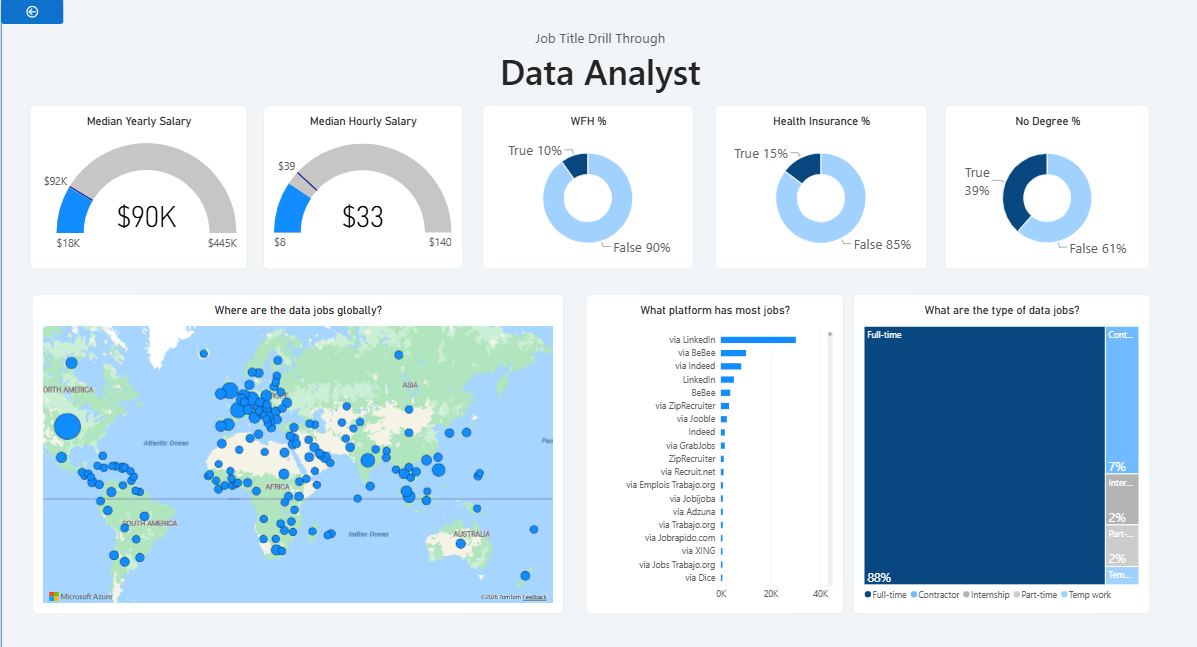

This screenshot's page, from the dashboard's own definition file:
{"tool":"powerbi","page":{"name":"Dashboard Drill Through","canvas":[1920,1080],"ordinal":1},"visuals":[{"type":"shape","box":[0,0,1920,1080],"z":500},{"type":"cardVisual","fields":{"Data":["Min(job_postings_flat.job_title_short)1"]},"box":[674,42,570,116],"z":1000},{"type":"actionButton","box":[0,0,100,40],"z":2000},{"type":"gauge","title":"Median Hourly Salary","fields":{"MaxValue":["Max(job_postings_flat.salary_hour_avg)"],"MinValue":["Min(job_postings_flat.salary_hour_avg)"],"TargetValue":["Avg(job_postings_flat.salary_hour_avg)"],"Y":["Median(job_postings_flat.salary_hour_avg)"]},"box":[420,170.4,318,262],"z":3000},{"type":"gauge","title":"Median Yearly Salary","fields":{"MaxValue":["Max(job_postings_flat.salary_year_avg)2"],"MinValue":["Min(job_postings_flat.salary_year_avg)1"],"TargetValue":["Avg(job_postings_flat.salary_year_avg)3"],"Y":["Median(job_postings_flat.salary_year_avg)"]},"box":[46,170.4,348,262],"z":4000},{"type":"donutChart","title":"WFH %","fields":{"Category":["job_postings_flat.job_work_from_home"],"Y":["CountNonNull(job_postings_flat.job_work_from_home)"]},"box":[770,170.4,338,262],"z":5000},{"type":"donutChart","title":"Health Insurance %","fields":{"Category":["job_postings_flat.job_health_insurance"],"Y":["CountNonNull(job_postings_flat.job_work_from_home)"]},"box":[1142,170.4,340,262],"z":6000},{"type":"donutChart","title":"No Degree %","fields":{"Category":["job_postings_flat.job_no_degree_mention"],"Y":["CountNonNull(job_postings_flat.job_work_from_home)"]},"box":[1510,170,328,262],"z":7000},{"type":"azureMap","title":"Where are the data jobs globally?","fields":{"Category":["job_postings_flat.job_country"],"Size":["CountNonNull(job_postings_flat.job_title_short)"]},"box":[50,472,850,512],"z":8000},{"type":"treemap","title":"What are the type of data jobs?","fields":{"Group":["job_postings_flat.job_schedule_type"],"Values":["CountNonNull(job_postings_flat.job_schedule_type)"]},"box":[1364,472,474,512],"z":9000},{"type":"barChart","title":"What platform has most jobs?","fields":{"Category":["job_postings_flat.job_via"],"Y":["CountNonNull(job_postings_flat.job_title_short)"]},"box":[936,472,412,512],"z":10000}]}

Visuals, with their boxes on the page's 1920x1080 design canvas (x1, y1, x2, y2). These are canvas units, not pixel positions in the 1197x647 screenshot, which may show the page scaled, cropped or inside an application window:
shape: pyautogui.locateOnScreen(0, 0, 1920, 1080)
cardVisual - Min(job_postings_flat.job_title_short)1: pyautogui.locateOnScreen(674, 42, 1244, 158)
actionButton: pyautogui.locateOnScreen(0, 0, 100, 40)
"Median Hourly Salary" gauge: pyautogui.locateOnScreen(420, 170, 738, 432)
"Median Yearly Salary" gauge: pyautogui.locateOnScreen(46, 170, 394, 432)
"WFH %" donutChart: pyautogui.locateOnScreen(770, 170, 1108, 432)
"Health Insurance %" donutChart: pyautogui.locateOnScreen(1142, 170, 1482, 432)
"No Degree %" donutChart: pyautogui.locateOnScreen(1510, 170, 1838, 432)
"Where are the data jobs globally?" azureMap: pyautogui.locateOnScreen(50, 472, 900, 984)
"What are the type of data jobs?" treemap: pyautogui.locateOnScreen(1364, 472, 1838, 984)
"What platform has most jobs?" barChart: pyautogui.locateOnScreen(936, 472, 1348, 984)
